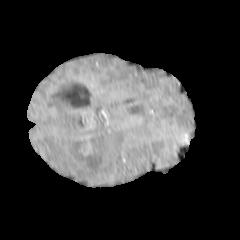glioma: (42, 110, 126, 179)
